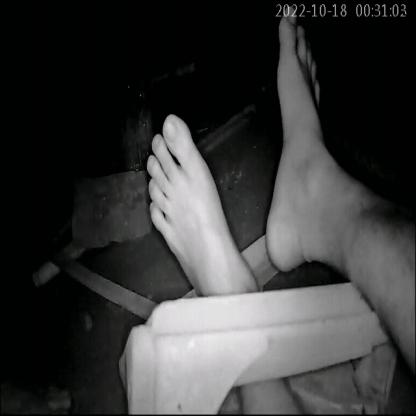leg: (256, 12, 416, 372), (142, 108, 258, 296)
